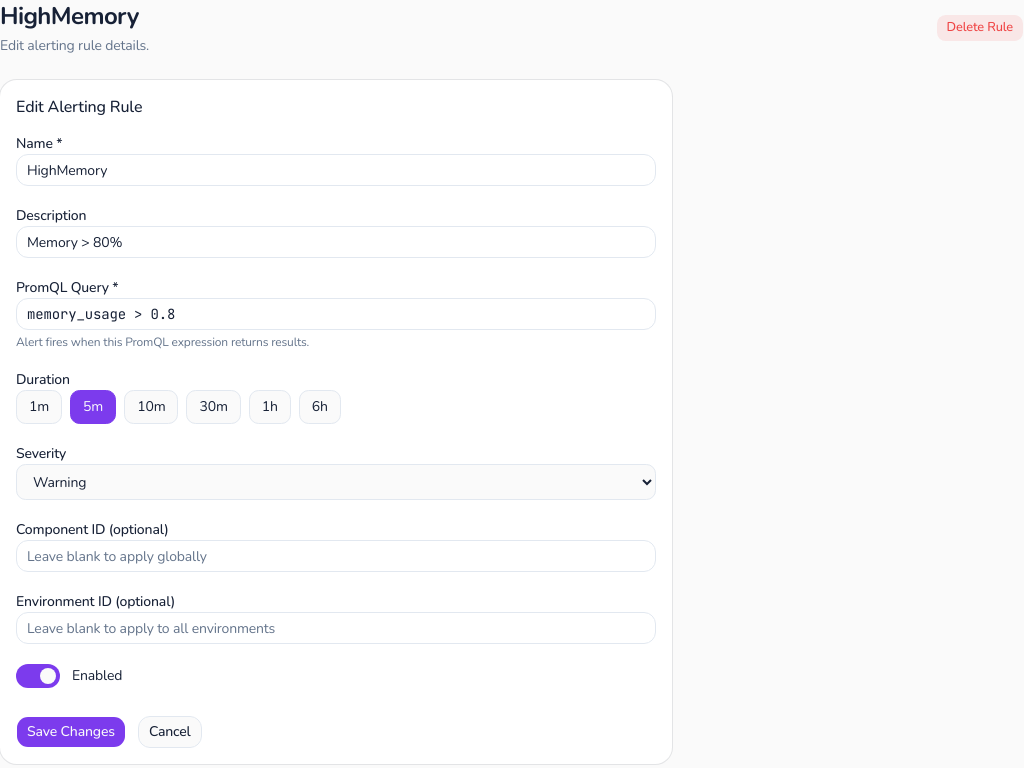
Scenario: AlertingRuleDetailClient › opens the delete confirm dialog when 'Delete Rule' is clicked
Click the button "Delete Rule" at (980, 28), box x1=936 y1=14 x2=1023 y2=42
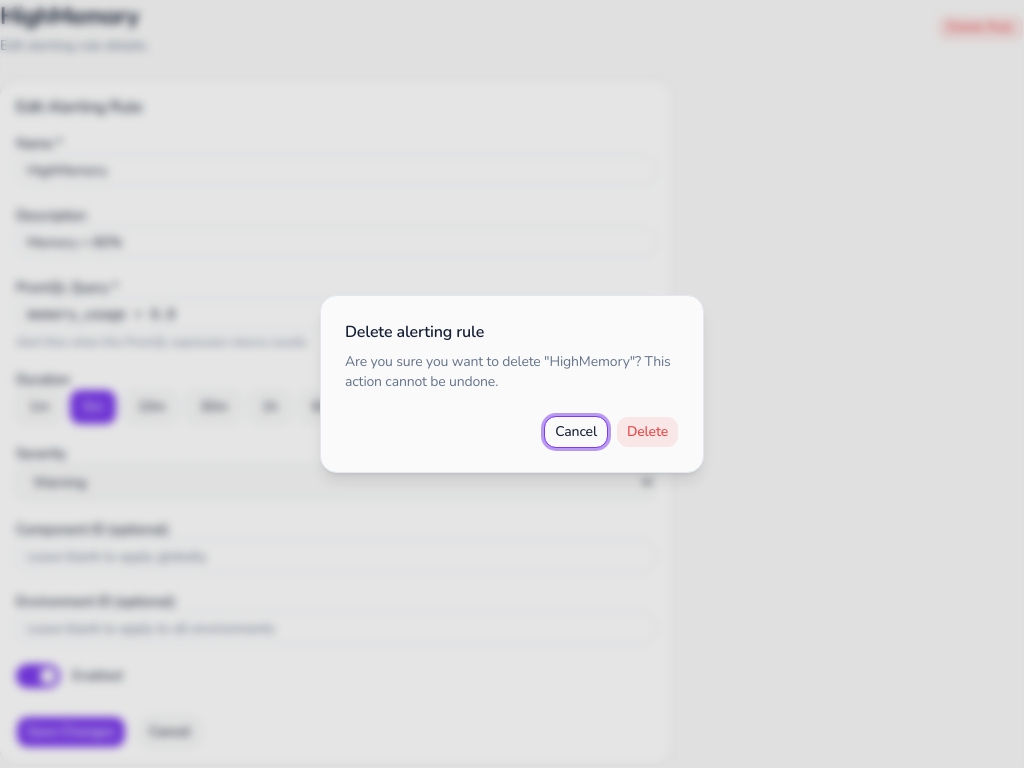
Now the heading "Delete alerting rule" is shown, box x1=345 y1=321 x2=484 y2=343
